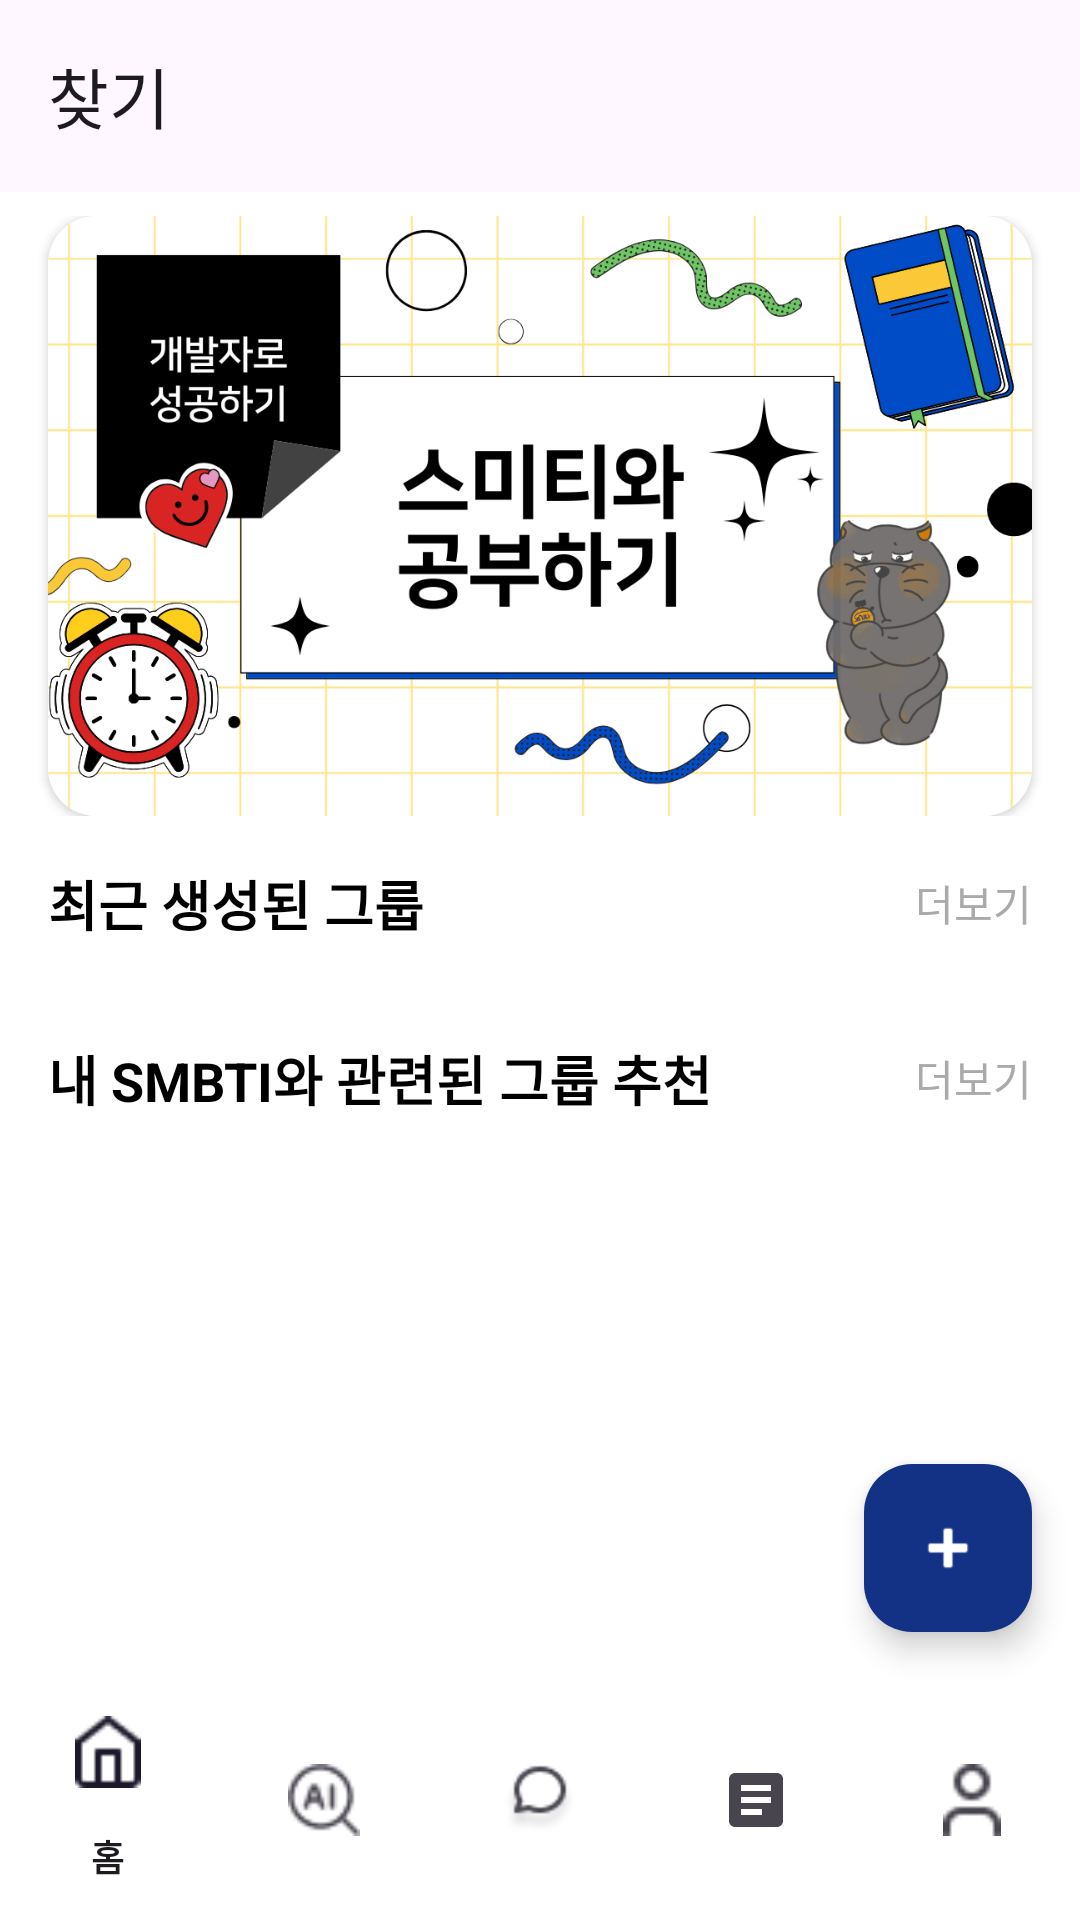

Icon click points for this 1080px x 1920px phone screenshot, format (x,y):
새 카드 추가: (948,1548)
